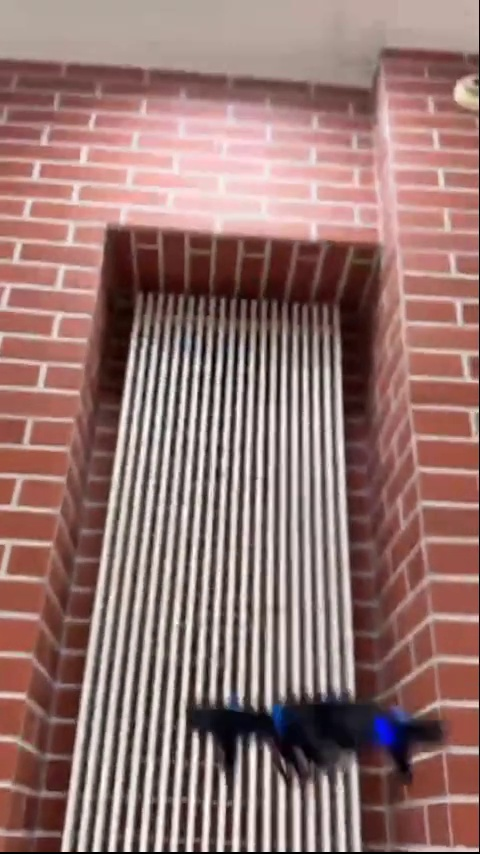drone: (186, 699, 447, 791)
